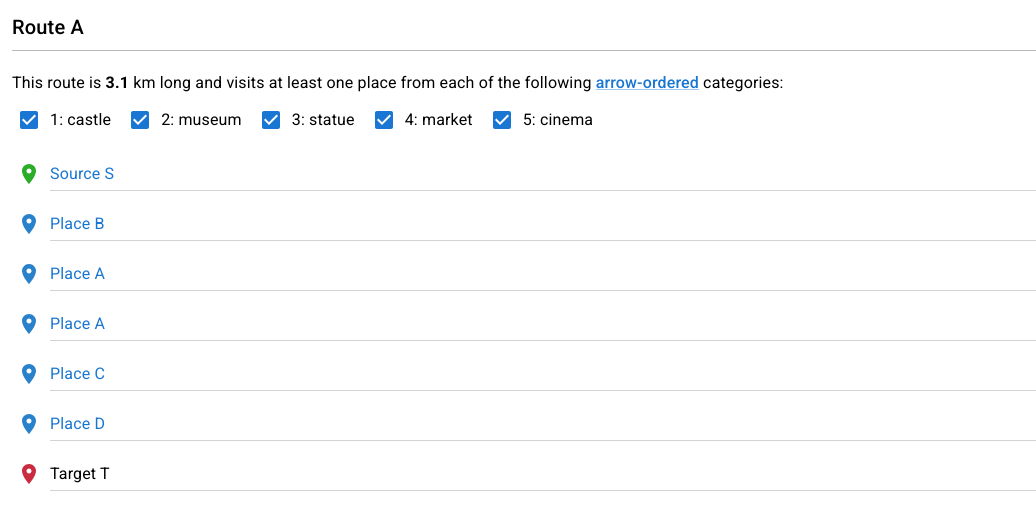
it: <ViewerRouteContent /> › category filters › filter hides and shows only corresponding waypoint
Expected: the link "Place B" is shown, [50,214,104,232]
What coordinates should you click on to do the following:
click the 3rd checkbox named "Hide places"
I would click on:
 (271, 120)
Its box is [254,103,288,137].
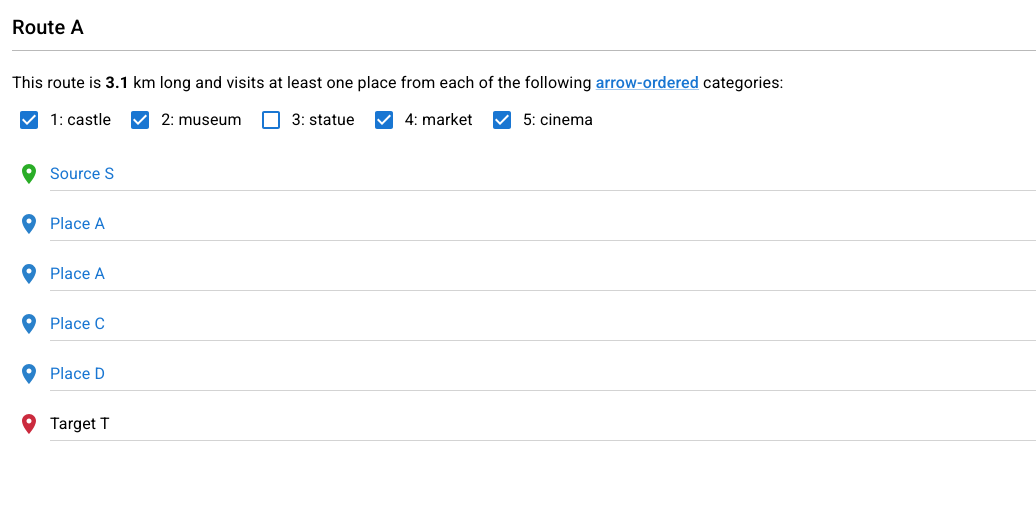
Expected: the link "Place B" is gone
